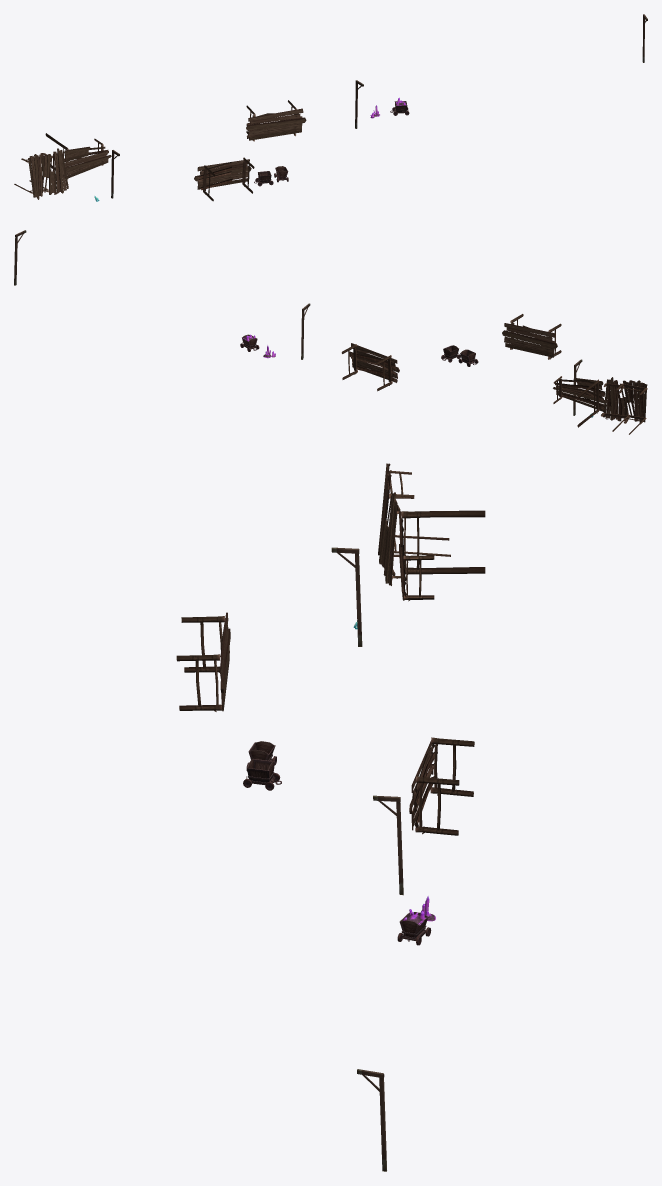
File: area_08_shuijing.FBX
The picture shows the model from 3 angles, top to bottom: view 1: azimuth 30°, elevation 25°; view 2: azimuth 150°, elevation 25°; view 3: azimuth 270°, elevation 25°; orthographic projection. The views are drawn at different scales.
Parts seen in each view (by area): view 1: area_08_shuijing; view 2: area_08_shuijing; view 3: area_08_shuijing.
Part boxes in pixels (left/top/right/bottom): area_08_shuijing: left=14, top=14, right=647, bottom=201; area_08_shuijing: left=14, top=230, right=647, bottom=434; area_08_shuijing: left=176, top=463, right=485, bottom=1171.
Size of the model in its own units: 11057 by 963 by 2395.
